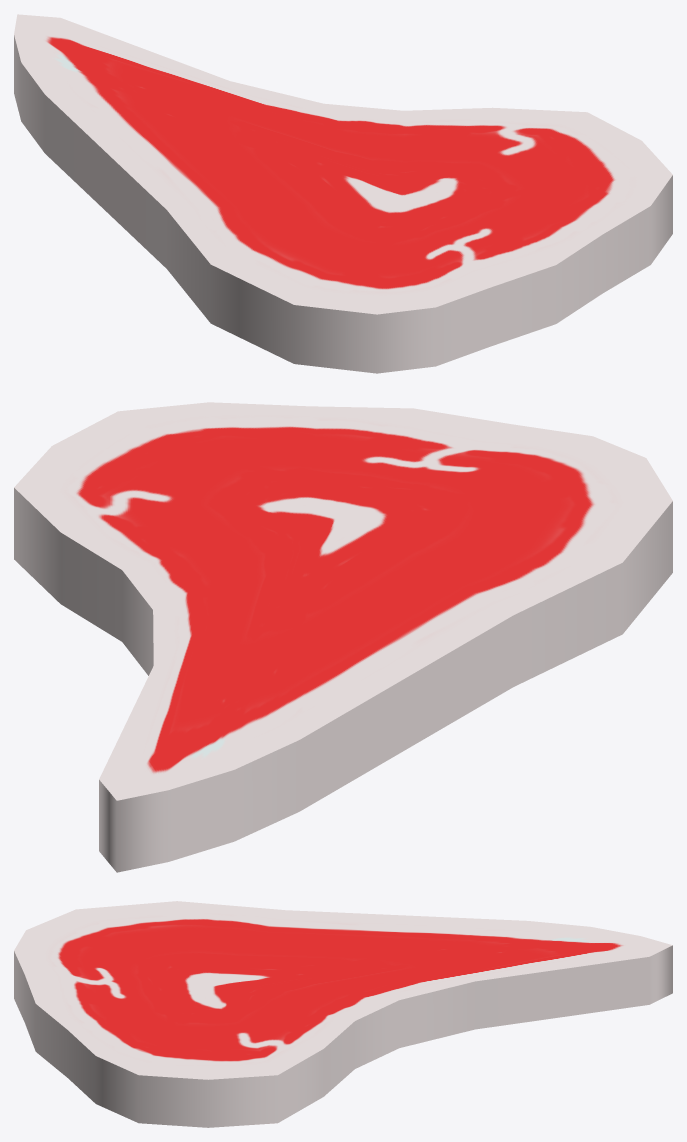
Rendered from steak-with-texture.fbx.
3 views of the same model, one above another, from view 1: azimuth 30°, elevation 25°; view 2: azimuth 150°, elevation 25°; view 3: azimuth 270°, elevation 25° (orthographic). The views are drawn at different scales.
Visible parts, largest first — view 1: pCylinder1; view 2: pCylinder1; view 3: pCylinder1.
Boxes of the visible parts, <box> form: pCylinder1: <box>14,14,672,373</box>; pCylinder1: <box>14,402,672,872</box>; pCylinder1: <box>14,901,672,1127</box>.
Size of the model in its own units: 5.3 by 0.6646 by 8.26.
1 material, 1 textured.
